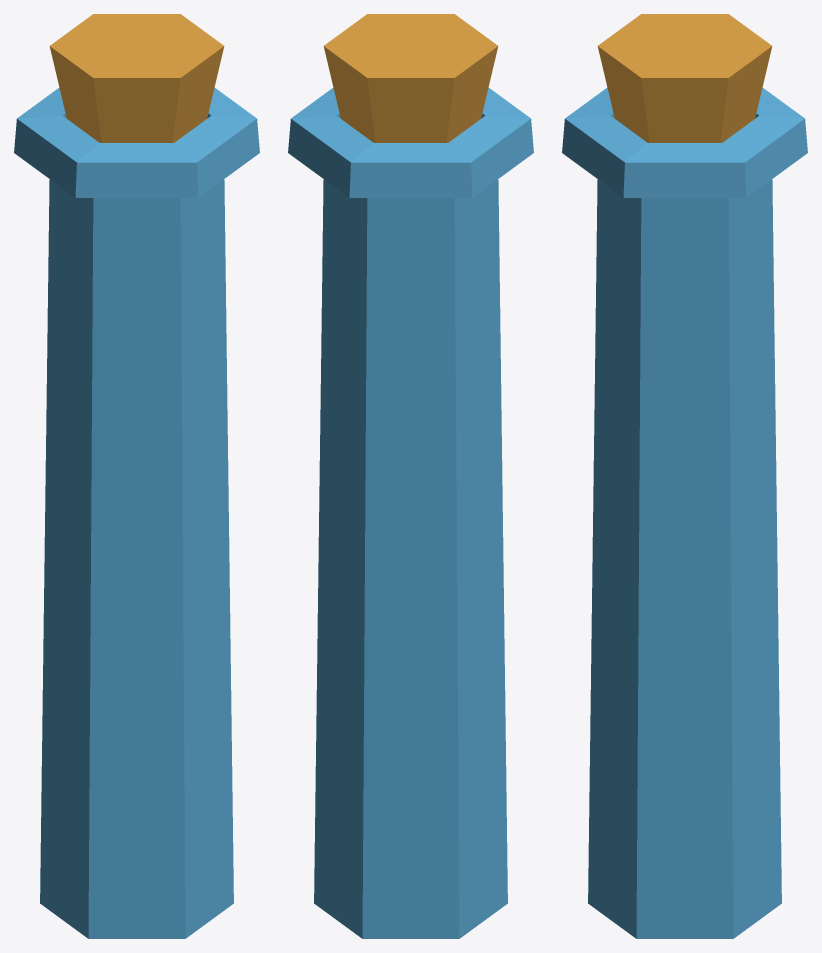
The model's file is SM_Bottle_Alchemy_C_Full.fbx.
3 renders of one model, left to right at view 1: azimuth 30°, elevation 25°; view 2: azimuth 150°, elevation 25°; view 3: azimuth 270°, elevation 25°, orthographic.
Parts seen in each view (by area): view 1: bottle-alchemy-c-full; view 2: bottle-alchemy-c-full; view 3: bottle-alchemy-c-full.
Boxes of the visible parts, left/top/right/bottom form: bottle-alchemy-c-full: left=14, top=14, right=259, bottom=938; bottle-alchemy-c-full: left=288, top=14, right=533, bottom=938; bottle-alchemy-c-full: left=562, top=14, right=807, bottom=938.
Size of the model in its own units: 0.0373 by 0.1691 by 0.0431.
